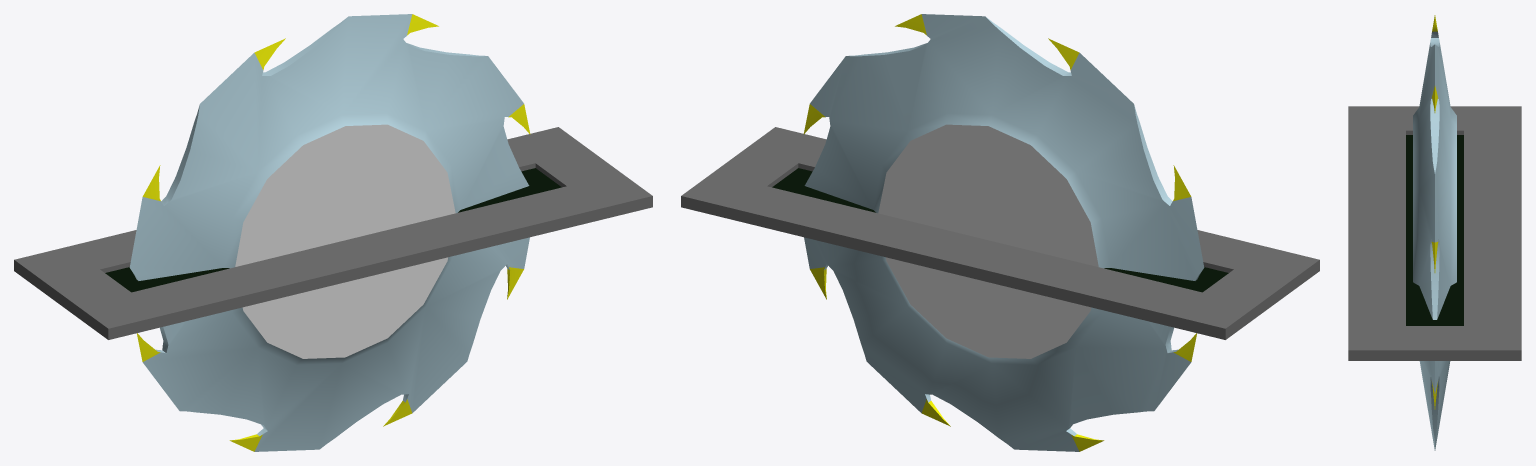
File: CircularSawBlade_04.fbx
3 renders of one model, left to right at view 1: azimuth 30°, elevation 25°; view 2: azimuth 150°, elevation 25°; view 3: azimuth 270°, elevation 25°, orthographic. The views are drawn at different scales.
Parts seen in each view (by area): view 1: CircularSawBlade1.2F, Zemin; view 2: CircularSawBlade1.2F, Zemin; view 3: Zemin, CircularSawBlade1.2F.
Boxes of the visible parts, box(x1,y1,x2,y2) form: CircularSawBlade1.2F: box(129, 14, 530, 451); Zemin: box(14, 127, 652, 339); CircularSawBlade1.2F: box(803, 14, 1204, 451); Zemin: box(681, 127, 1319, 339); Zemin: box(1348, 106, 1521, 360); CircularSawBlade1.2F: box(1413, 15, 1456, 450).
Size of the model in its own units: 200 by 150 by 60.
